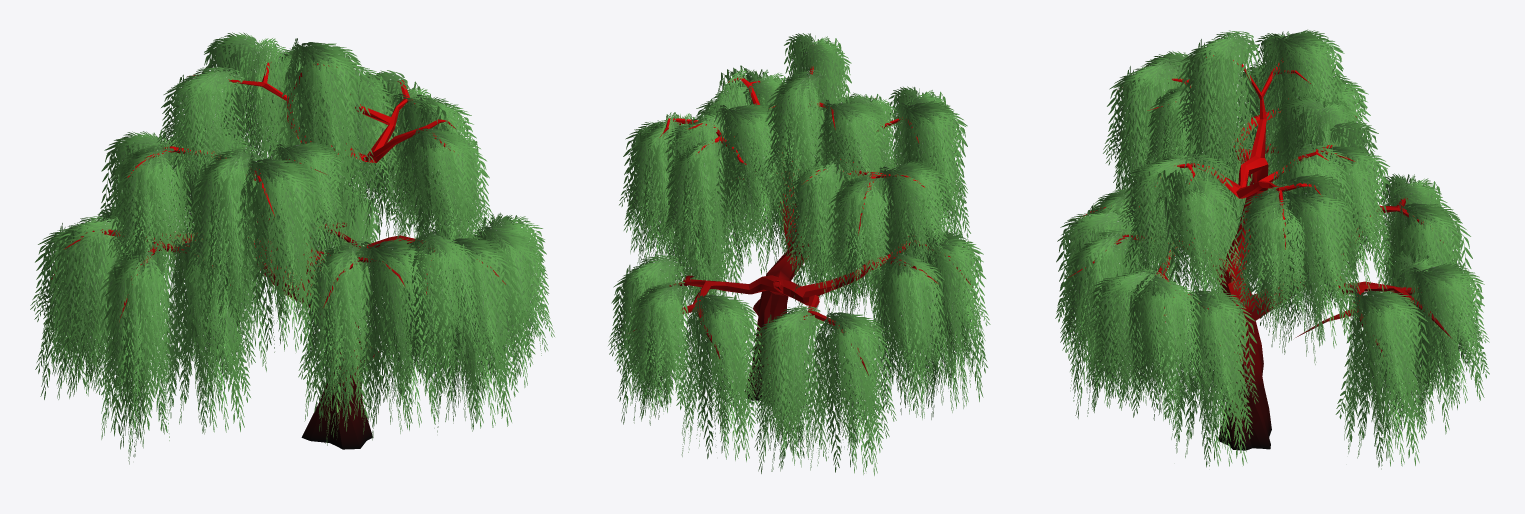
The model's file is PT_Weeping_Willow_Tree_02_green.fbx.
3 views of the same model, side by side, from view 1: azimuth 30°, elevation 25°; view 2: azimuth 150°, elevation 25°; view 3: azimuth 270°, elevation 25° (orthographic). The views are drawn at different scales.
Visible parts, largest first — view 1: PT_Weeping_Willow_Tree_02_green_LOD0; view 2: PT_Weeping_Willow_Tree_02_green_LOD0; view 3: PT_Weeping_Willow_Tree_02_green_LOD0.
Part boxes in pixels (x1=…): PT_Weeping_Willow_Tree_02_green_LOD0: x1=30, y1=32, x2=554, y2=464; PT_Weeping_Willow_Tree_02_green_LOD0: x1=608, y1=33, x2=990, y2=475; PT_Weeping_Willow_Tree_02_green_LOD0: x1=1055, y1=29, x2=1489, y2=469.
Size of what is drawn, in the model's own units: 1062 by 1029 by 1080.
